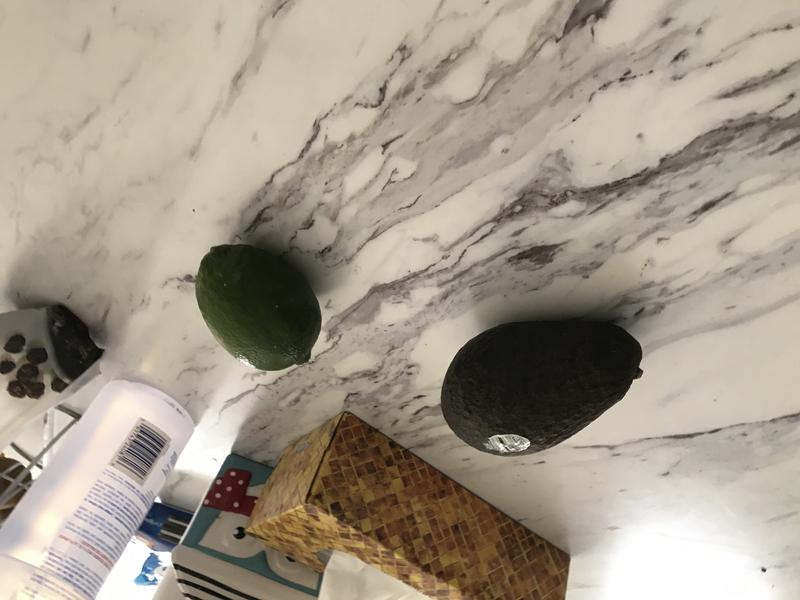avacado: (433, 308, 657, 465)
lime: (186, 237, 328, 380)
